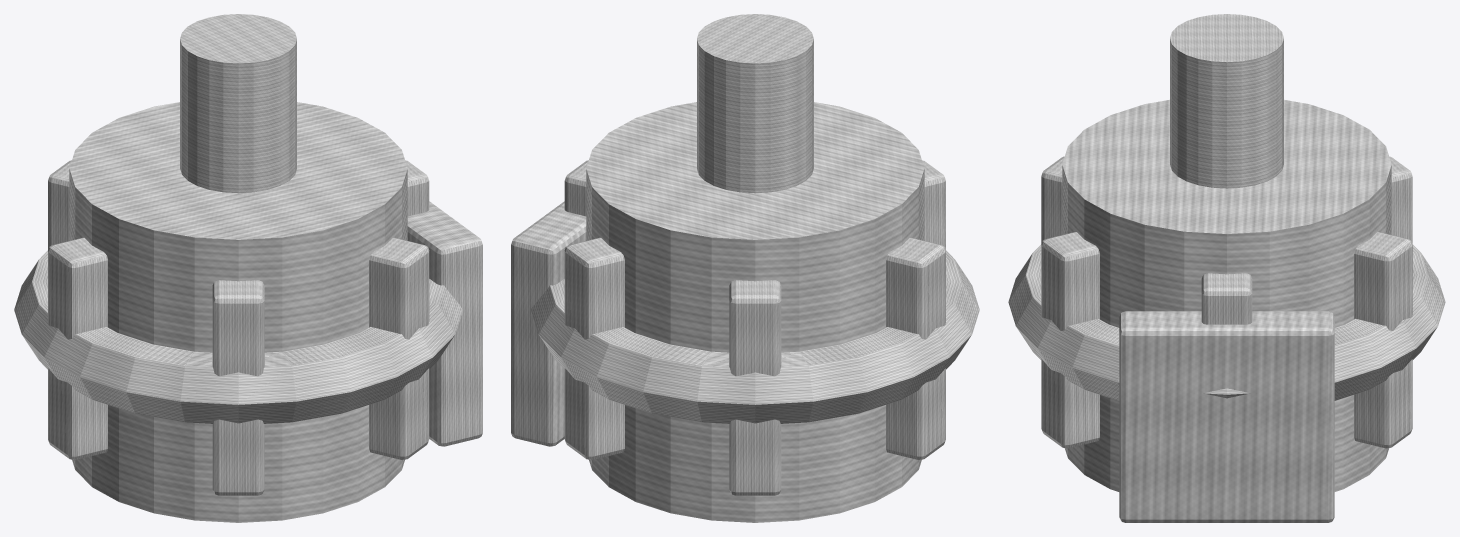
Rendered from item-cooling-system_variant_b.glb.
3 renders of one model, left to right at view 1: azimuth 30°, elevation 25°; view 2: azimuth 150°, elevation 25°; view 3: azimuth 270°, elevation 25°, orthographic. The views are drawn at different scales.
Parts seen in each view (by area): view 1: Mechanical core.001, Rotor ring.002, Shaft.001, Variant reinforcement, Cooling fin.012, Cooling fin.010, Cooling fin.011, Cooling fin.009, Cooling fin.007; view 2: Mechanical core.001, Rotor ring.002, Shaft.001, Variant reinforcement, Cooling fin.008, Cooling fin.010, Cooling fin.009, Cooling fin.011, Cooling fin.007; view 3: Mechanical core.001, Variant reinforcement, Shaft.001, Rotor ring.002, Cooling fin.008, Cooling fin.012, Cooling fin.007, Cooling fin.009, Cooling fin.011.
Part boxes in pixels (<box>): Mechanical core.001: <box>69,102,407,522</box>; Rotor ring.002: <box>14,250,462,423</box>; Shaft.001: <box>180,14,296,193</box>; Variant reinforcement: <box>407,201,482,446</box>; Cooling fin.012: <box>369,237,429,459</box>; Cooling fin.010: <box>48,237,107,459</box>; Cooling fin.011: <box>212,280,264,495</box>; Cooling fin.009: <box>48,160,71,249</box>; Cooling fin.007: <box>405,160,429,216</box>; Mechanical core.001: <box>586,102,924,522</box>; Rotor ring.002: <box>531,250,979,423</box>; Shaft.001: <box>697,14,813,193</box>; Variant reinforcement: <box>511,201,586,446</box>; Cooling fin.008: <box>564,237,624,459</box>; Cooling fin.010: <box>886,237,945,459</box>; Cooling fin.009: <box>729,280,781,495</box>; Cooling fin.011: <box>922,160,945,249</box>; Cooling fin.007: <box>564,160,588,216</box>; Mechanical core.001: <box>1062,99,1391,491</box>; Variant reinforcement: <box>1119,311,1334,522</box>; Shaft.001: <box>1170,14,1283,188</box>; Rotor ring.002: <box>1008,244,1445,400</box>; Cooling fin.008: <box>1354,232,1412,448</box>; Cooling fin.012: <box>1041,232,1099,448</box>; Cooling fin.007: <box>1201,273,1252,324</box>; Cooling fin.009: <box>1389,156,1412,243</box>; Cooling fin.011: <box>1041,156,1064,243</box>.
Size of what is drawn, in the model's own units: 0.69 by 0.7 by 0.69.
Materials: 4 (4 with a texture image).
